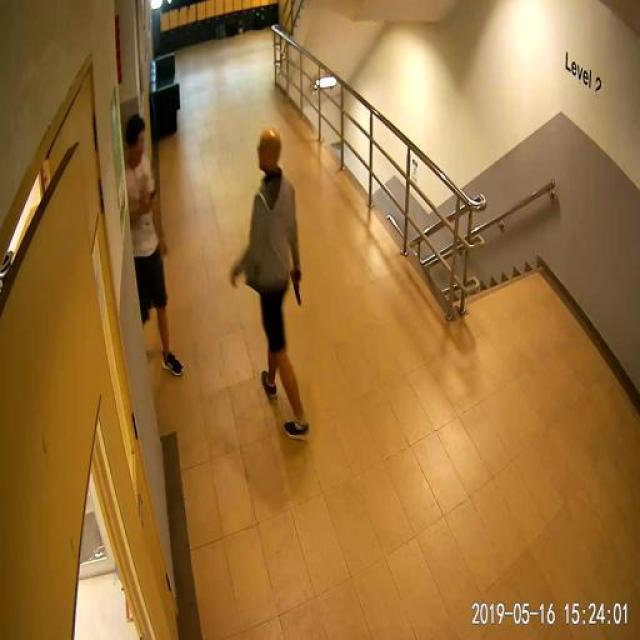Gun: (290, 273, 310, 309)
